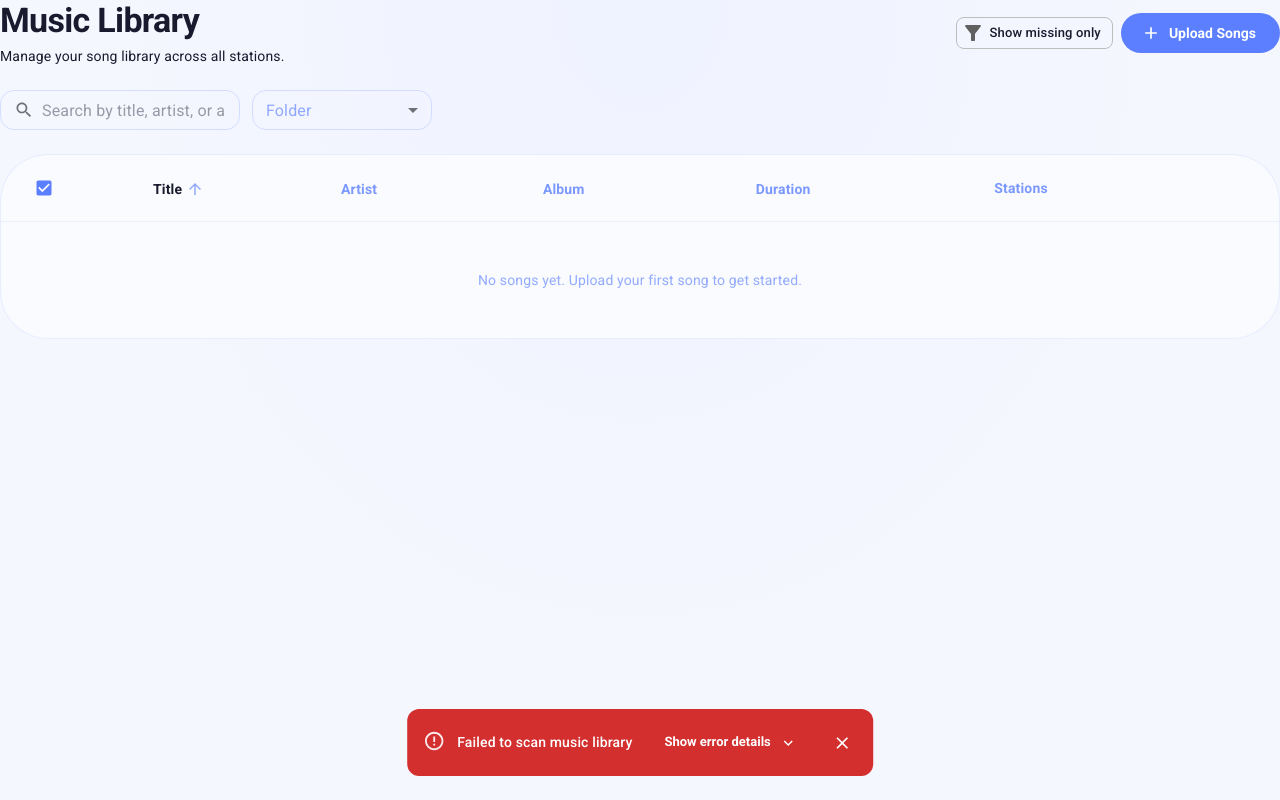
Scenario: Songs Page › opens upload dialog when clicking upload button
Expected: the text "No songs yet. Upload your first song to get started." is shown, left=1, top=222, right=1279, bottom=338
Click the button "Upload Songs" at (1200, 33), box left=1121, top=13, right=1279, bottom=53
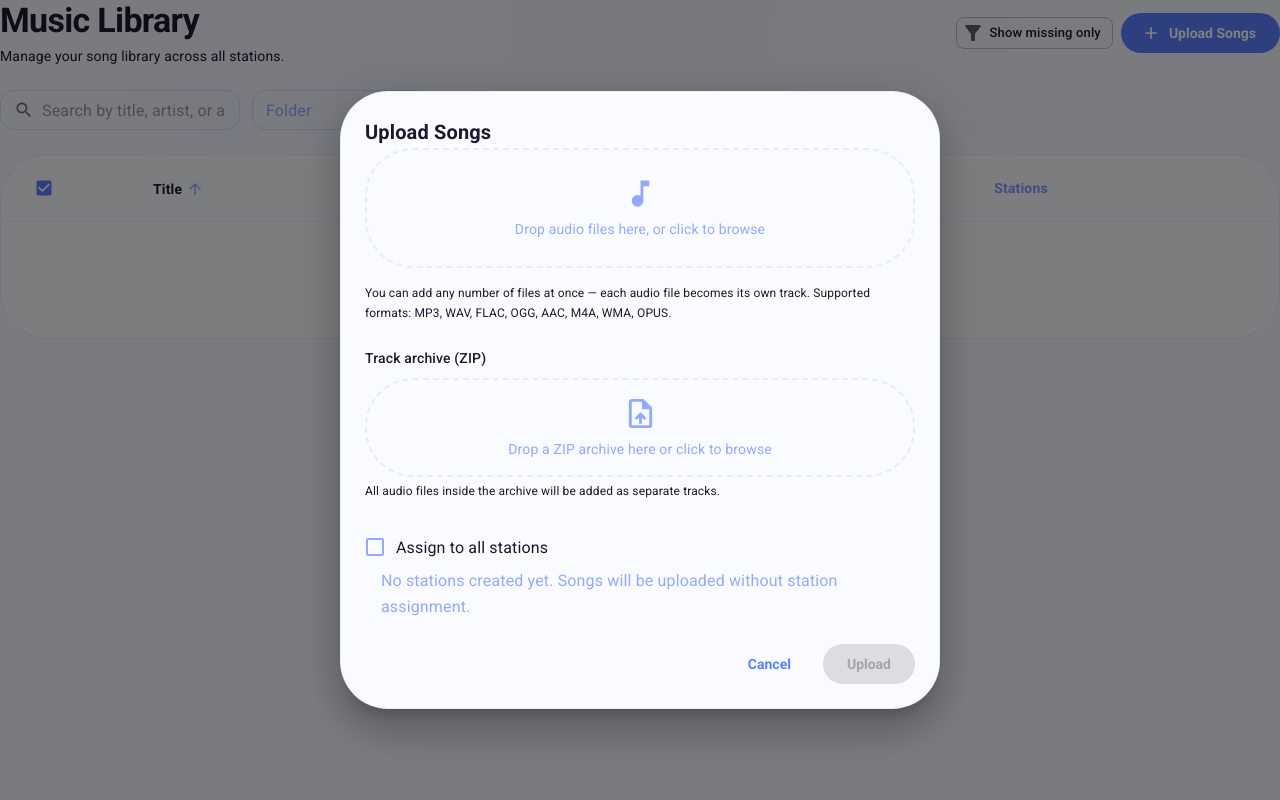
Expected: the dialog is shown, left=340, top=91, right=940, bottom=709
